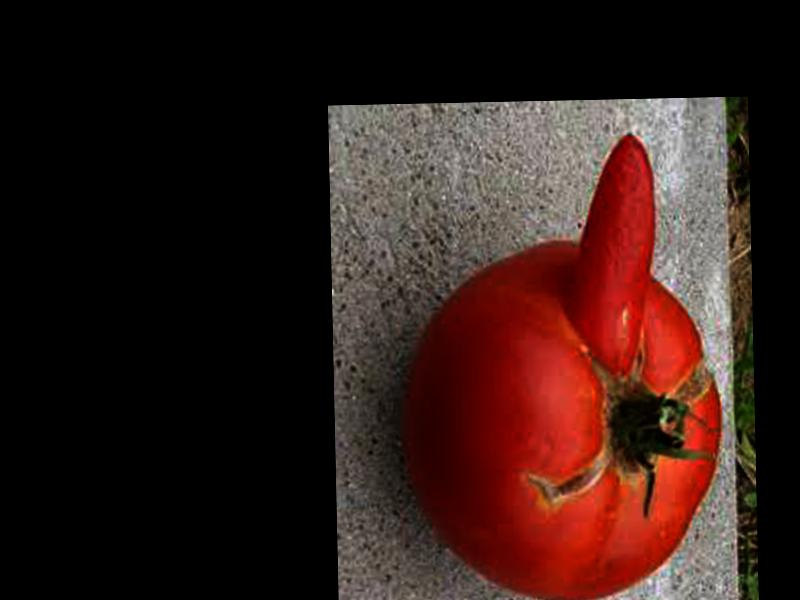Tomato: (409, 237, 726, 600)
